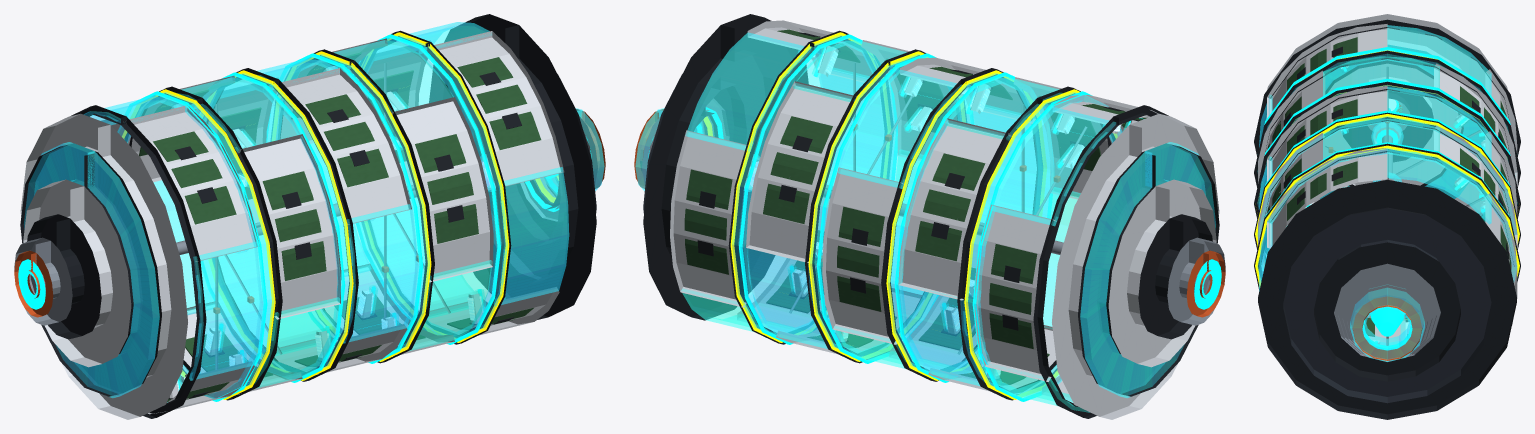
3 views of the same model, side by side, from view 1: azimuth 30°, elevation 25°; view 2: azimuth 150°, elevation 25°; view 3: azimuth 270°, elevation 25° (orthographic). The views are drawn at different scales.
Parts seen in each view (by area): view 1: Cyl05_aero_white, Cyl05_glass_cyan, Cyl05_gunmetal, Cyl05_glass_emerald, Cyl05_foliage, Cyl05_led_cyan, Cyl05_led_amber, Cyl05_steel_machined, Cyl05_carbon_slate, Cyl05_accent_orange, Cyl05_window_lit; view 2: Cyl05_aero_white, Cyl05_glass_cyan, Cyl05_gunmetal, Cyl05_foliage, Cyl05_glass_emerald, Cyl05_led_cyan, Cyl05_led_amber, Cyl05_steel_machined, Cyl05_carbon_slate, Cyl05_accent_orange, Cyl05_window_lit; view 3: Cyl05_gunmetal, Cyl05_aero_white, Cyl05_glass_cyan, Cyl05_carbon_slate, Cyl05_glass_emerald, Cyl05_steel_machined, Cyl05_led_cyan, Cyl05_foliage, Cyl05_led_amber, Cyl05_accent_orange.
Part boxes in pixels (x1=…): Cyl05_aero_white: x1=20, y1=31, x2=564, y2=419; Cyl05_glass_cyan: x1=24, y1=22, x2=604, y2=398; Cyl05_gunmetal: x1=20, y1=14, x2=596, y2=418; Cyl05_glass_emerald: x1=177, y1=40, x2=492, y2=389; Cyl05_foliage: x1=139, y1=52, x2=541, y2=401; Cyl05_led_cyan: x1=18, y1=34, x2=591, y2=402; Cyl05_led_amber: x1=122, y1=32, x2=558, y2=399; Cyl05_steel_machined: x1=14, y1=63, x2=597, y2=369; Cyl05_carbon_slate: x1=462, y1=75, x2=596, y2=279; Cyl05_accent_orange: x1=14, y1=109, x2=605, y2=317; Cyl05_window_lit: x1=177, y1=94, x2=483, y2=390; Cyl05_aero_white: x1=670, y1=20, x2=1219, y2=419; Cyl05_glass_cyan: x1=635, y1=32, x2=1215, y2=399; Cyl05_gunmetal: x1=643, y1=14, x2=1219, y2=418; Cyl05_foliage: x1=684, y1=29, x2=1147, y2=384; Cyl05_glass_emerald: x1=681, y1=40, x2=1130, y2=412; Cyl05_led_cyan: x1=648, y1=34, x2=1221, y2=401; Cyl05_led_amber: x1=703, y1=32, x2=1117, y2=399; Cyl05_steel_machined: x1=642, y1=63, x2=1225, y2=354; Cyl05_carbon_slate: x1=643, y1=55, x2=777, y2=247; Cyl05_accent_orange: x1=634, y1=109, x2=1225, y2=317; Cyl05_window_lit: x1=791, y1=49, x2=1130, y2=375; Cyl05_gunmetal: x1=1254, y1=19, x2=1520, y2=419; Cyl05_aero_white: x1=1258, y1=14, x2=1517, y2=344; Cyl05_glass_cyan: x1=1257, y1=25, x2=1517, y2=361; Cyl05_carbon_slate: x1=1283, y1=208, x2=1491, y2=403; Cyl05_glass_emerald: x1=1286, y1=56, x2=1485, y2=340; Cyl05_steel_machined: x1=1279, y1=66, x2=1495, y2=361; Cyl05_led_cyan: x1=1264, y1=47, x2=1510, y2=350; Cyl05_foliage: x1=1267, y1=37, x2=1511, y2=336; Cyl05_led_amber: x1=1255, y1=50, x2=1519, y2=319; Cyl05_accent_orange: x1=1328, y1=103, x2=1422, y2=360.
Bounding box in the file's own units: 800 × 400 × 400.
12 materials, 12 textured.
